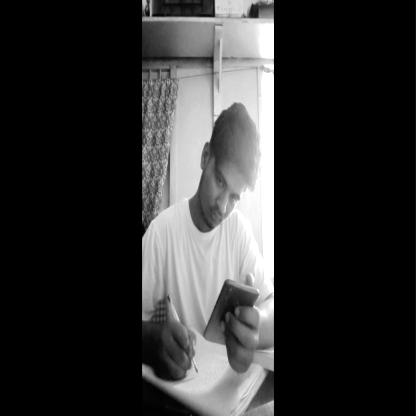Distracted: (192, 100, 260, 241)
